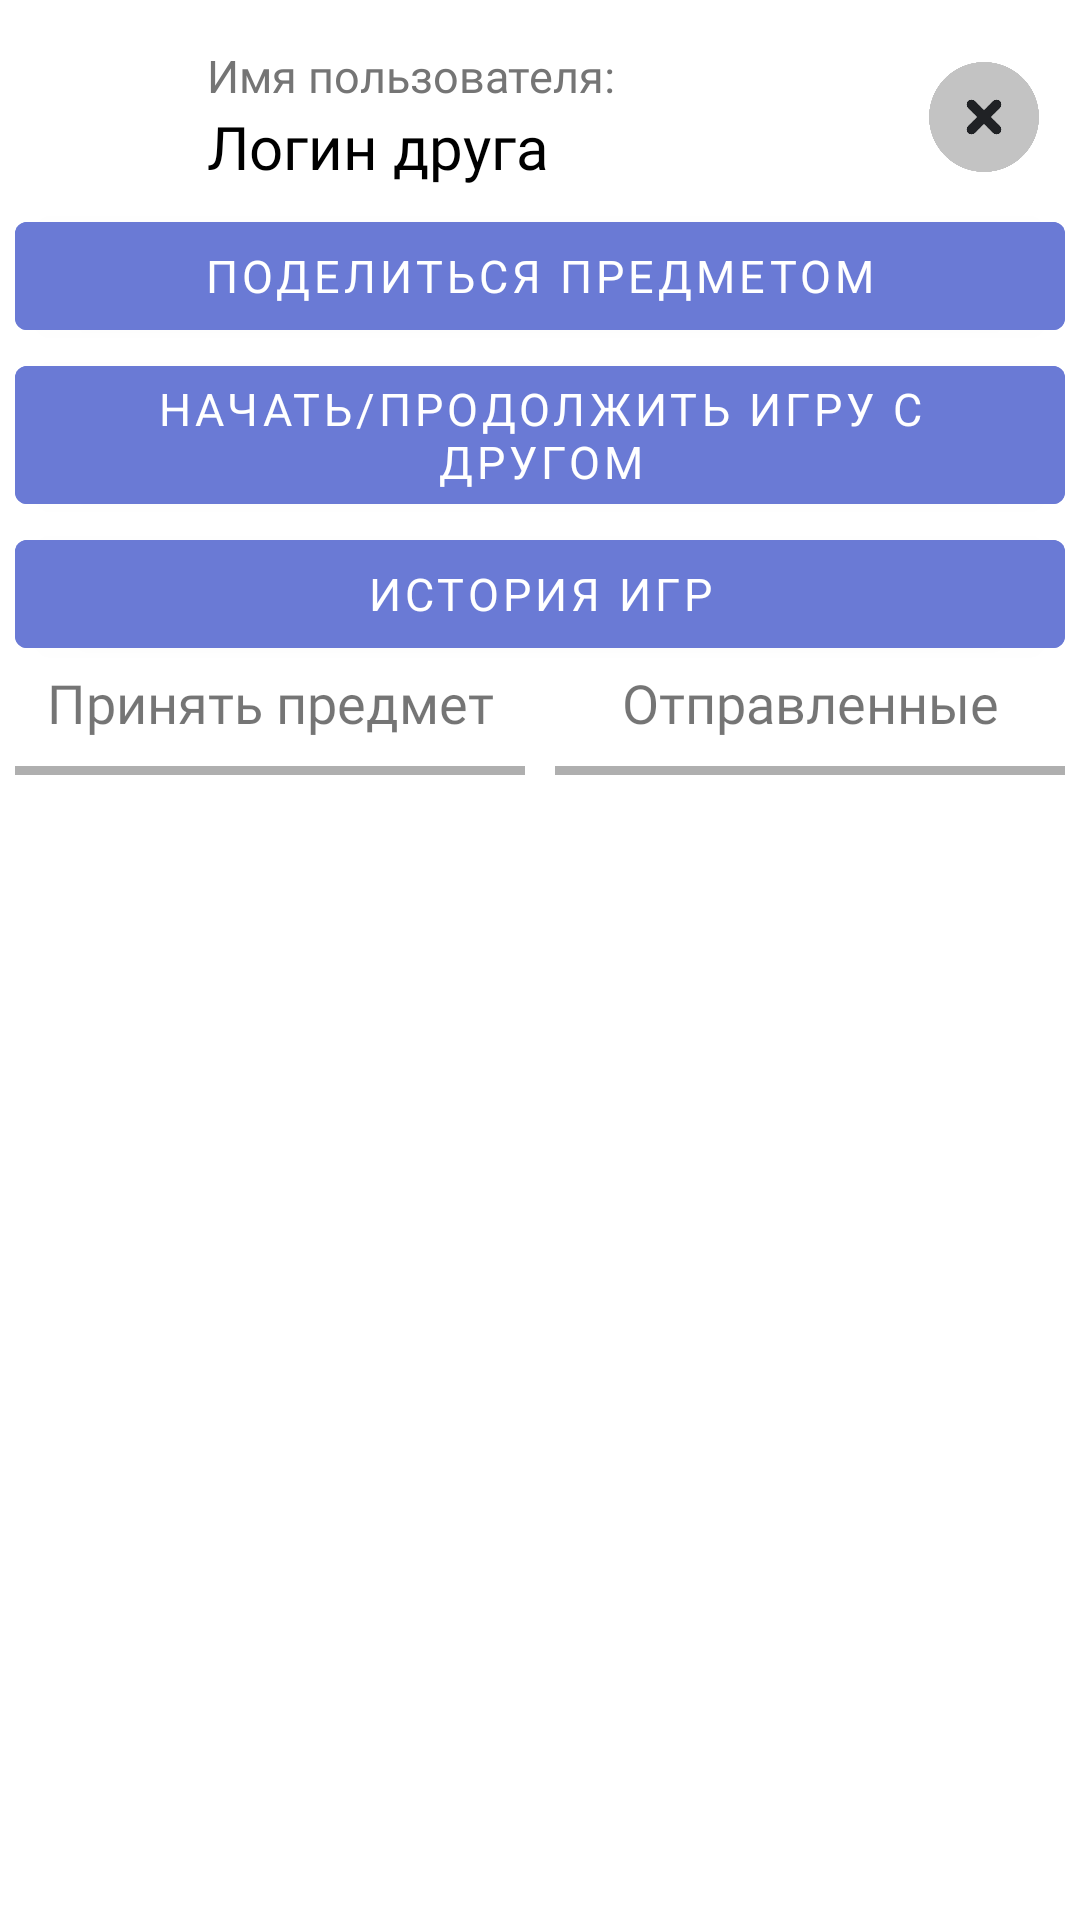

Named icons in this screenshot (1080px×1920px) and their bounding boxes, box(x1, y1, x2, y2):
delete friends: box(929, 62, 1039, 172)
